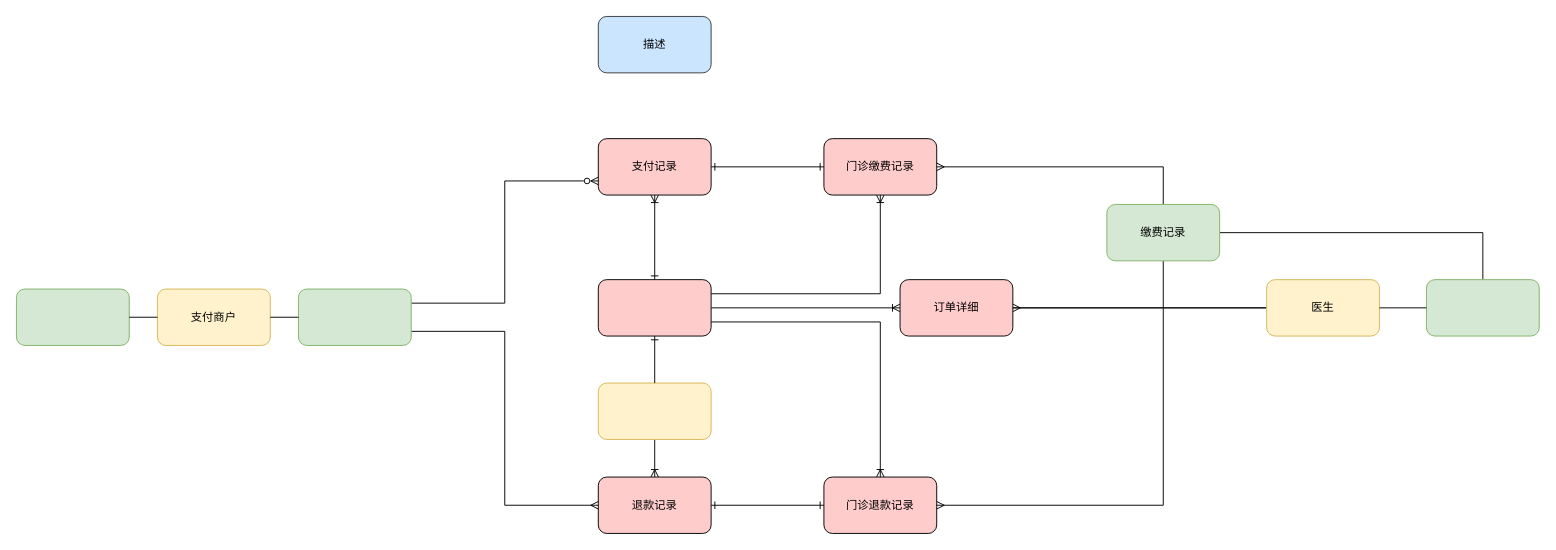
Image size: 1556x550. Some labels were removed from this diagram. Here are the shapes that lost their labels. From the top down, the box of each, then its label:
(16, 288, 129, 345): 支付平台
(298, 288, 411, 345): 对账单
(597, 279, 711, 336): 订单记录
(1426, 279, 1539, 336): HIS
(597, 382, 711, 439): 管理员
